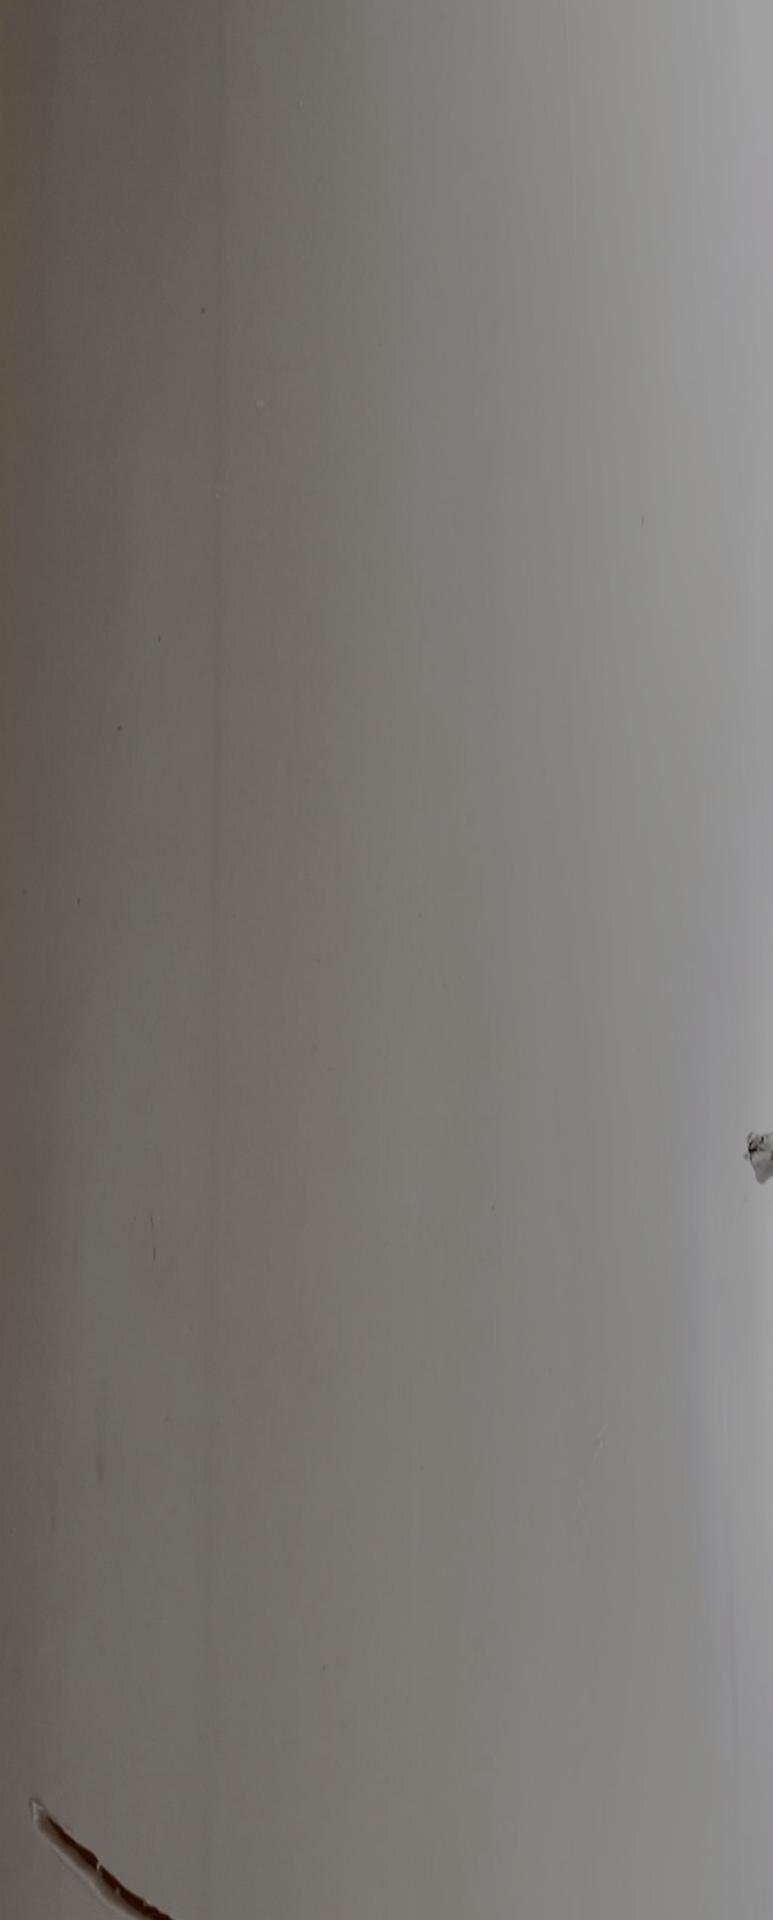fengxi: (29, 1783, 186, 1920)
